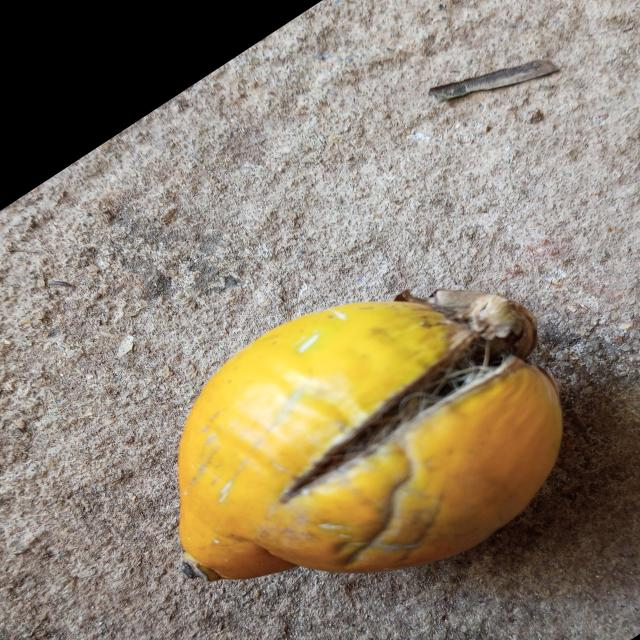damaged: (177, 297, 563, 583)
